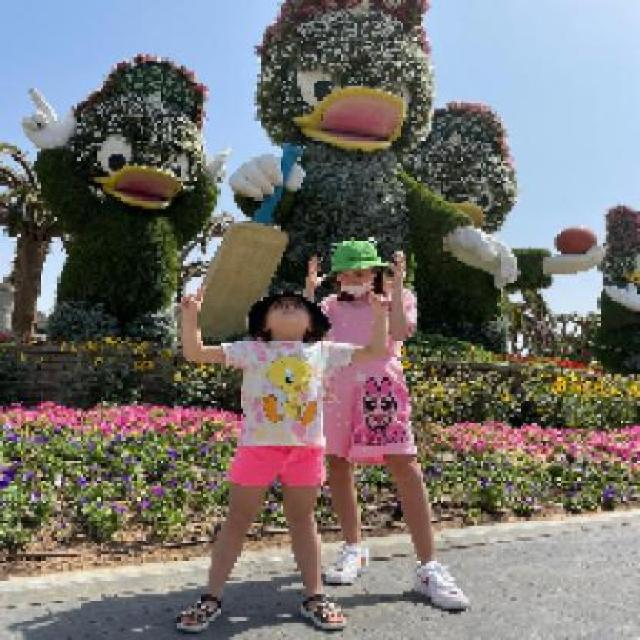child: (173, 277, 393, 634)
